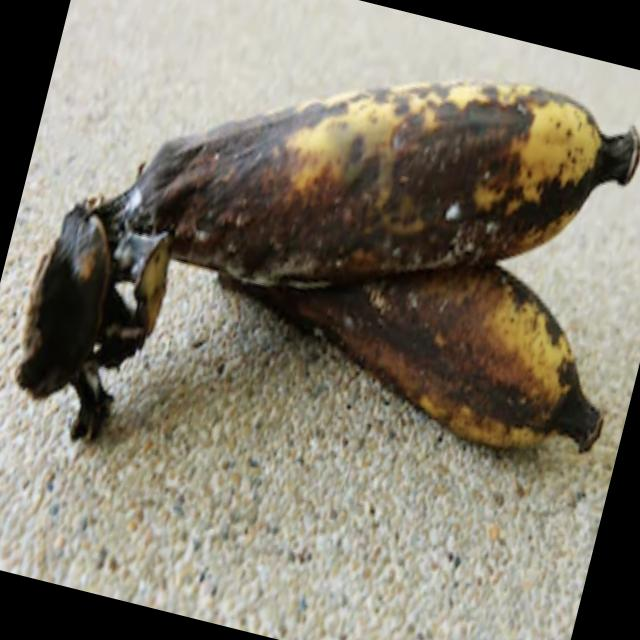rotten-banana: (173, 6, 640, 362), (212, 190, 632, 464)
